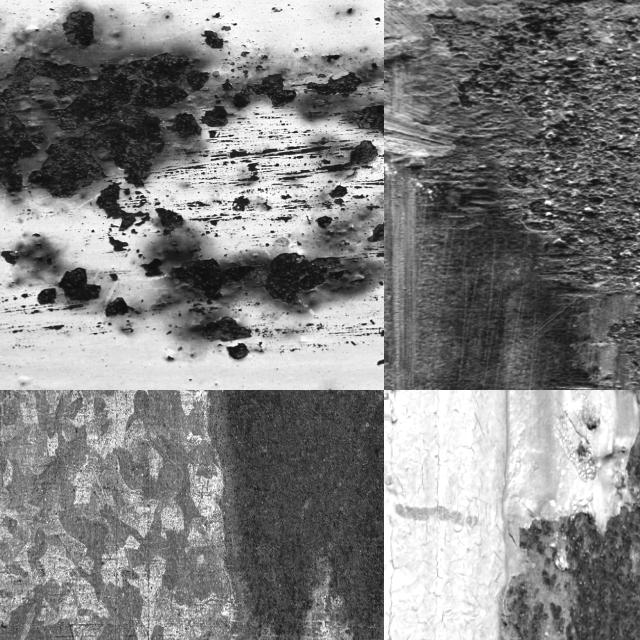Pitting Corrosion: (403, 0, 640, 390), (0, 184, 384, 368), (0, 53, 208, 197), (502, 508, 640, 640), (175, 83, 255, 141), (97, 183, 135, 230), (253, 75, 296, 106), (307, 73, 362, 96), (63, 10, 94, 46), (626, 430, 640, 500), (355, 105, 384, 136), (351, 141, 377, 165), (202, 30, 223, 49)
Uniform Corrosion: (221, 390, 384, 640)
